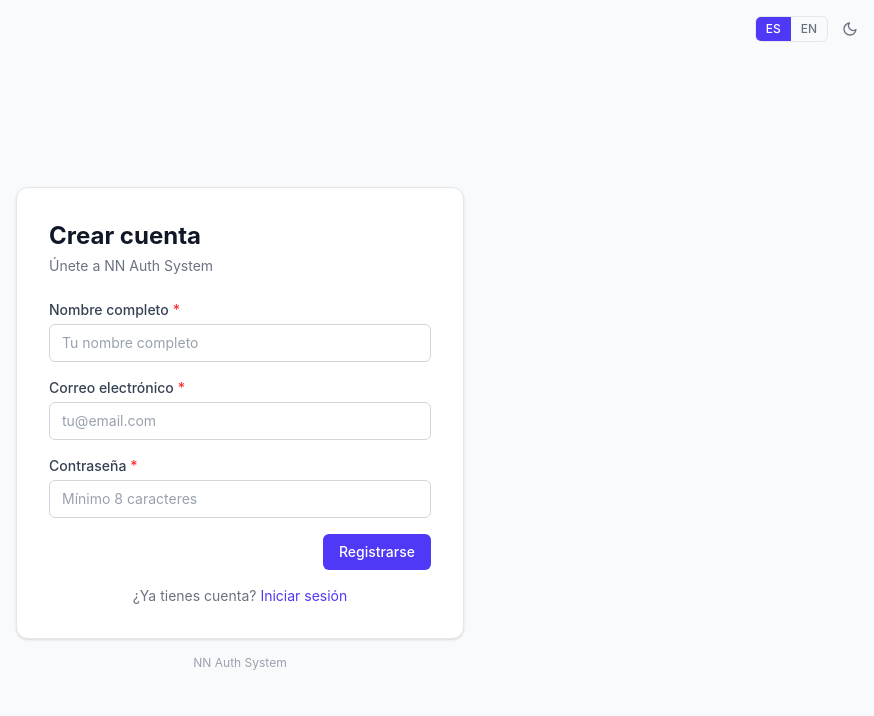
Test: RegisterPage › shows success message after successful registration
Type "Test User" into the field labelled "Nombre completo*". click: (240, 343)
box: [49,324,431,362]
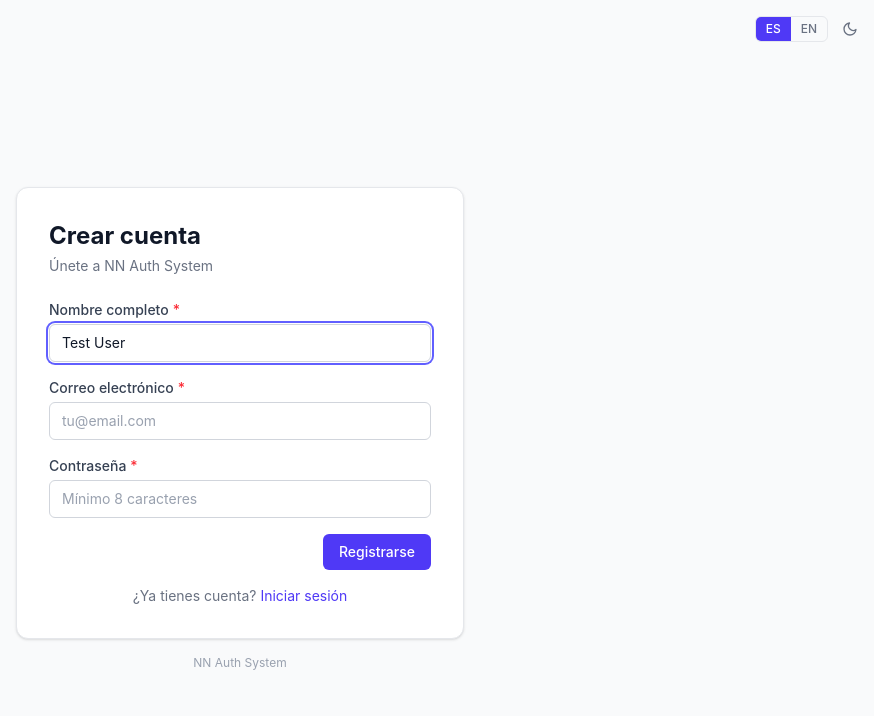
Type "test@test.com" into the field labelled "Correo electrónico*". click: (240, 421)
box: [49,402,431,440]
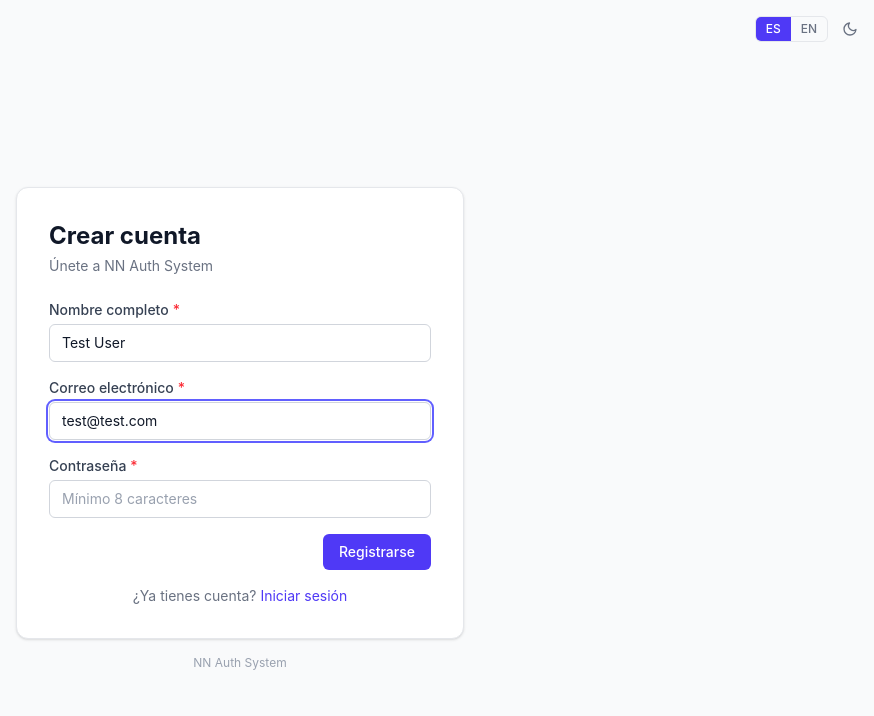
Type "password123" into the password field labelled "Contraseña*". click: (240, 499)
box: [49,480,431,518]
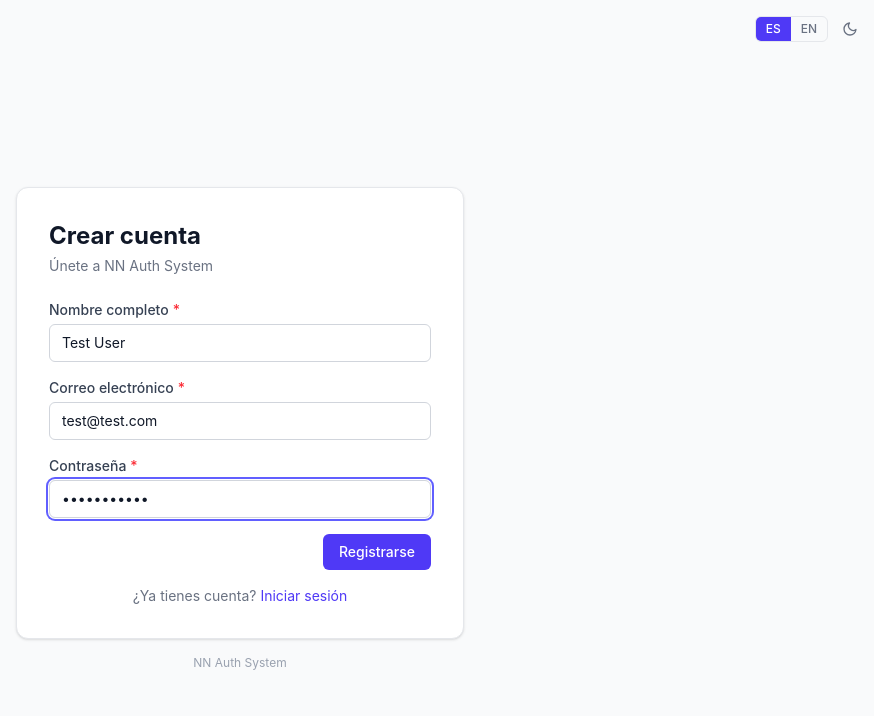
Click the button "Registrarse". click: (377, 552)
box: [323,534,431,570]
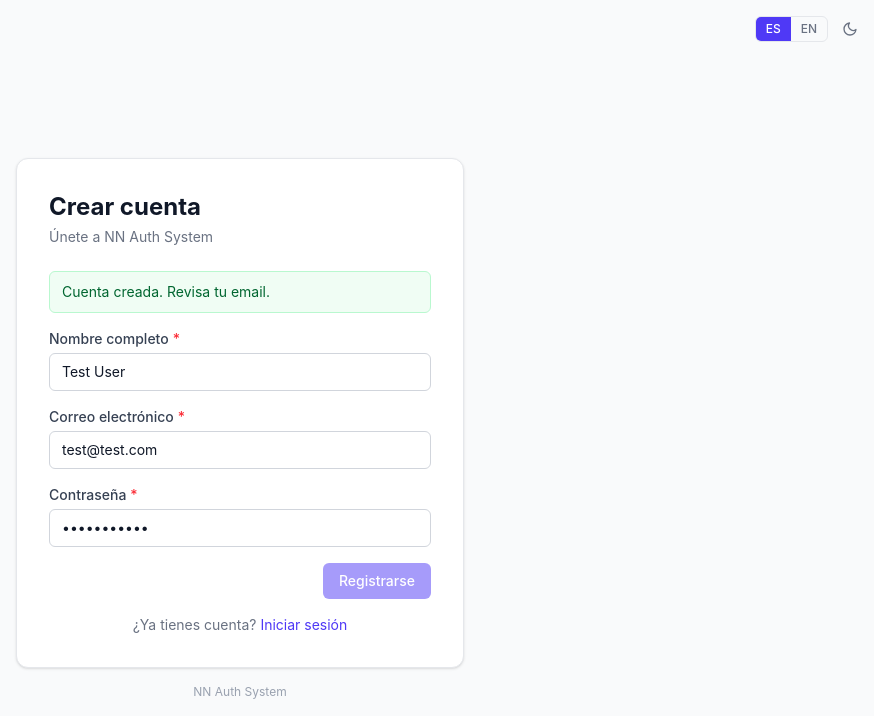
Result: the message shows "Cuenta creada" at [62,283,270,300]
